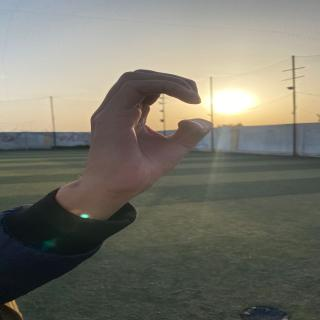JEEM: (71, 58, 242, 194)
